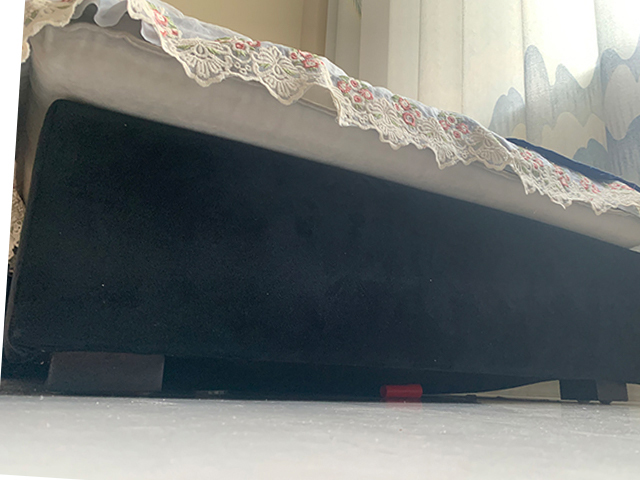sofa: (7, 1, 640, 404)
